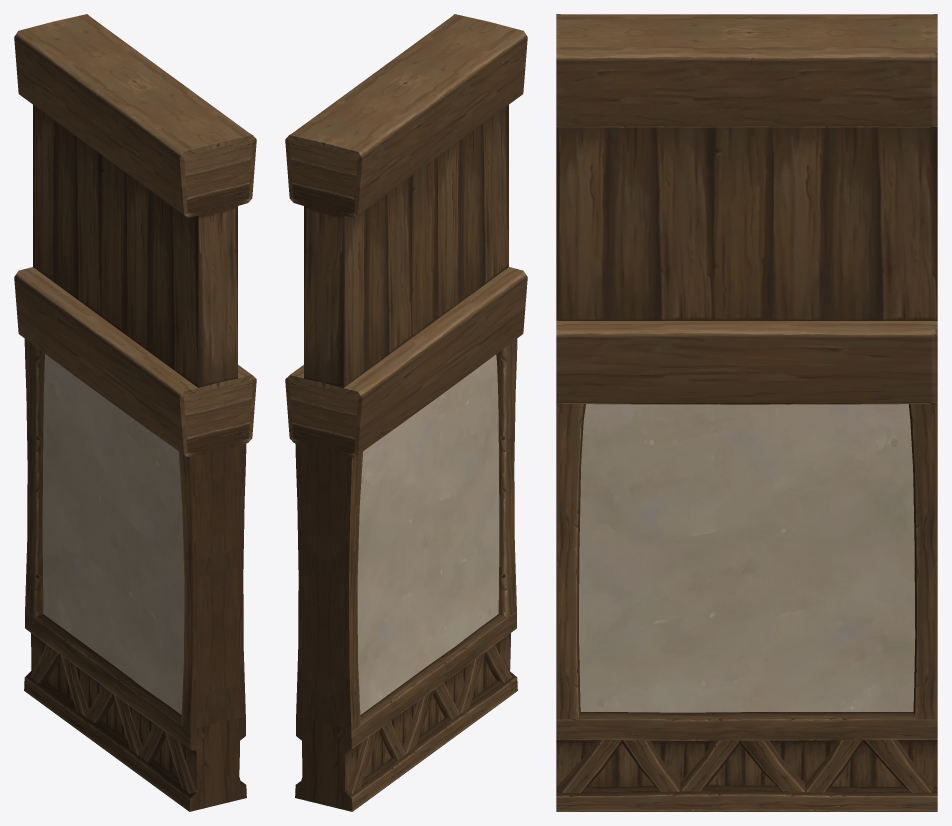
3 views of the same model, side by side, from view 1: azimuth 30°, elevation 25°; view 2: azimuth 150°, elevation 25°; view 3: azimuth 270°, elevation 25° (orthographic). The views are drawn at different scales.
Bounding box in the file's own units: 1.35 × 11.04 × 5.
Materials: 6 (6 with a texture image).
